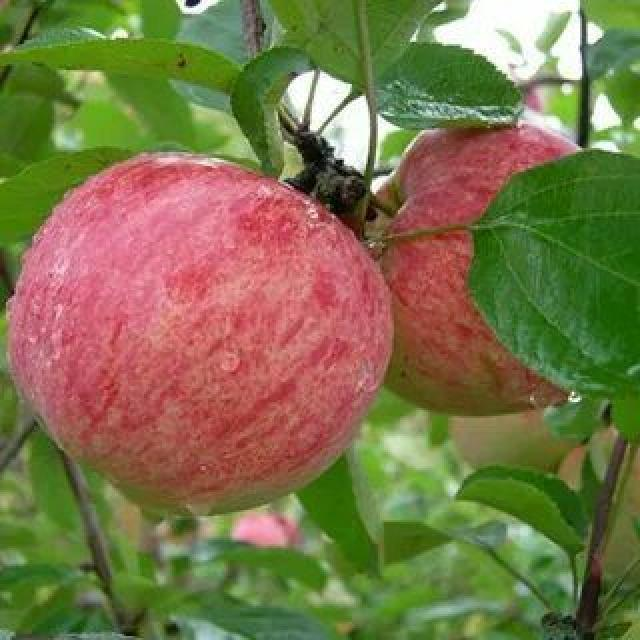Fresh Apple: (11, 149, 393, 523), (378, 107, 634, 432)
